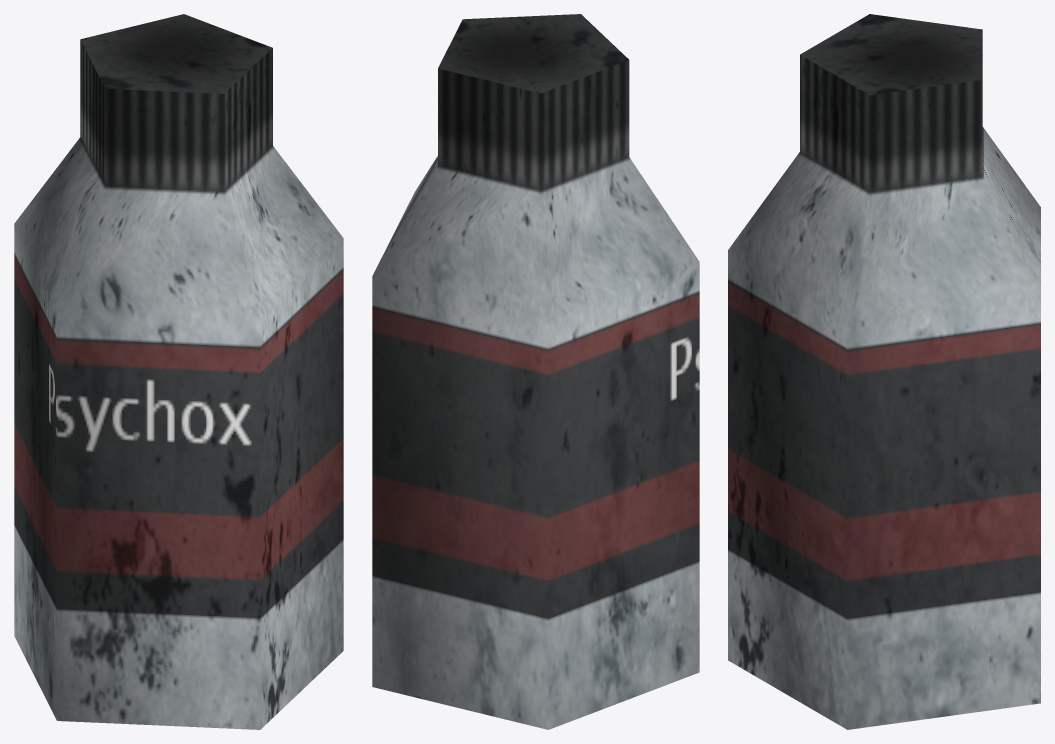
Rendered from medicine_mid_D.fbx.
3 views of the same model, side by side, from view 1: azimuth 30°, elevation 25°; view 2: azimuth 150°, elevation 25°; view 3: azimuth 270°, elevation 25° (orthographic).
Parts seen in each view (by area): view 1: medicine_mid_D; view 2: medicine_mid_D; view 3: medicine_mid_D.
Boxes of the visible parts, bbox=[...] form: medicine_mid_D: bbox=[14, 14, 343, 729]; medicine_mid_D: bbox=[372, 14, 699, 729]; medicine_mid_D: bbox=[728, 14, 1040, 729].
Bounding box in the file's own units: 8.57 × 17.42 × 8.15.
